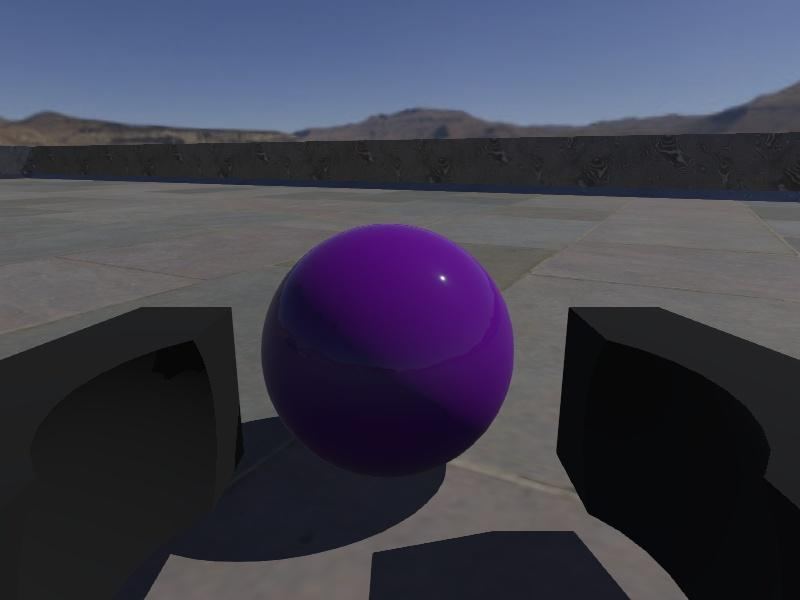violet ball: (260, 222, 514, 478)
